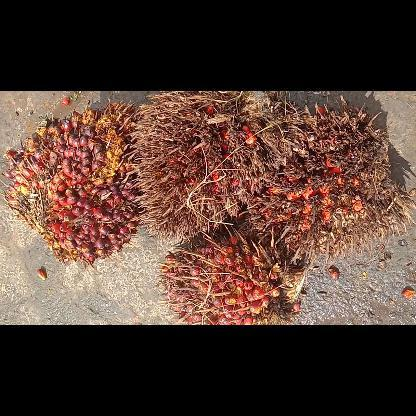TBS masak: (0, 98, 144, 266), (157, 224, 306, 324)
Terlalu masak: (240, 96, 414, 272), (126, 90, 300, 246)
